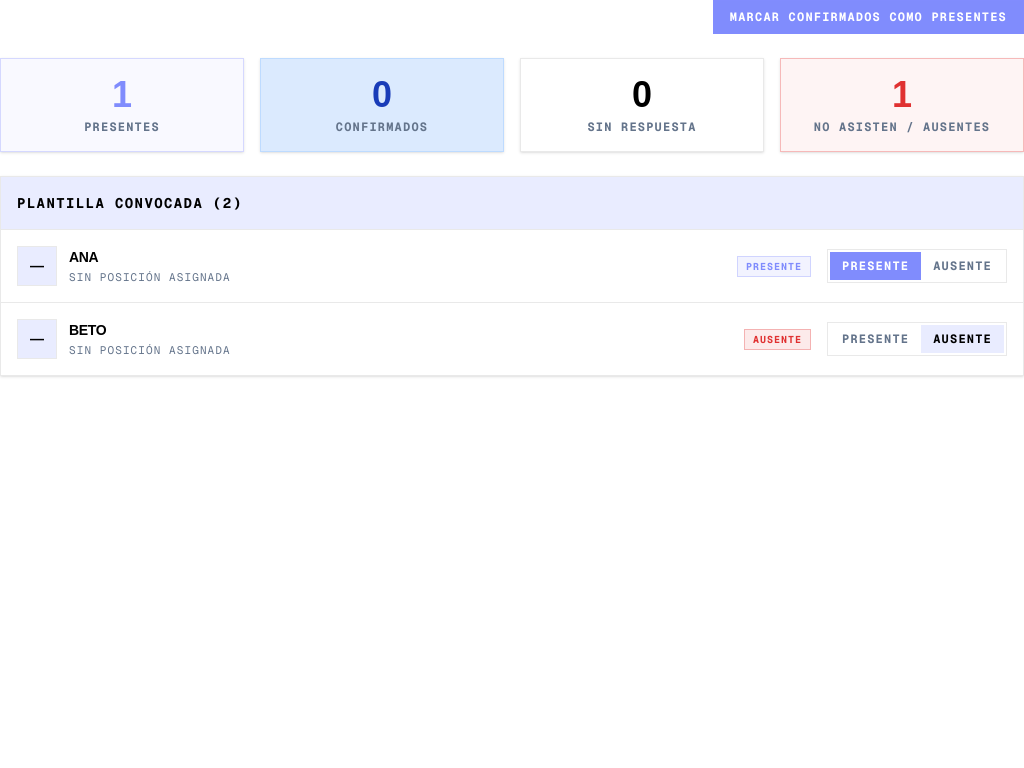
Test: AttendanceBoard — marcar confirmados como presentes › error de la API: muestra el mensaje y no cambia estados
Click the button "Marcar confirmados como presentes" at [868, 17], box [713,0,1023,34]
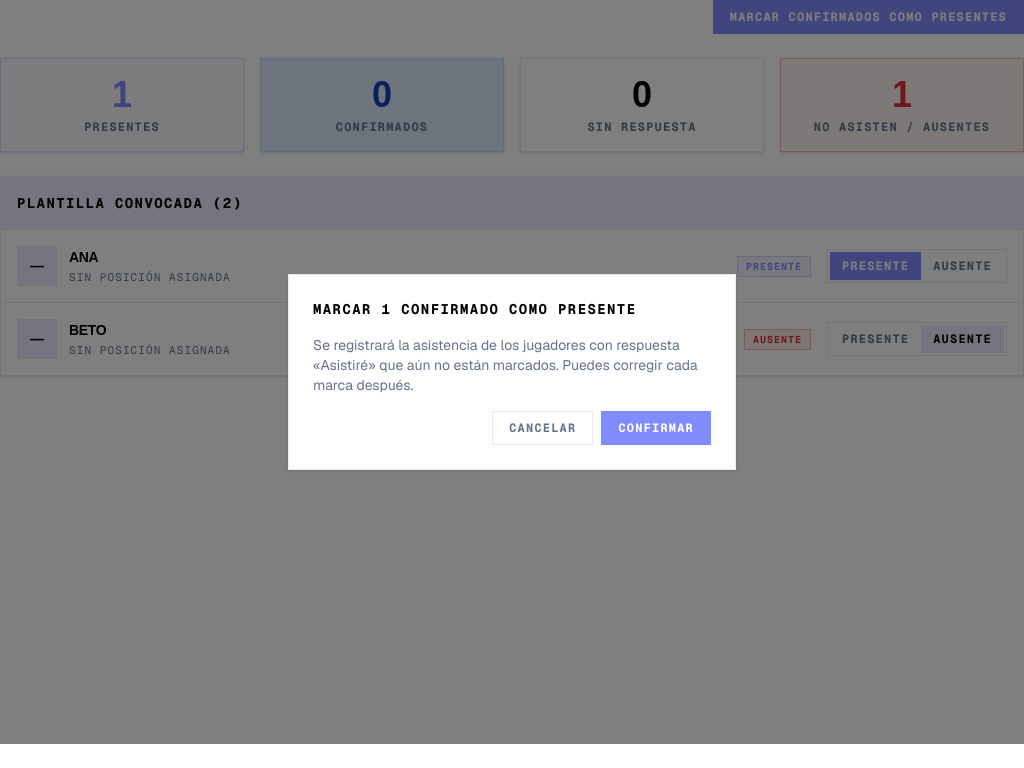
Click the button "Confirmar" at [656, 428], box [601,411,711,445]
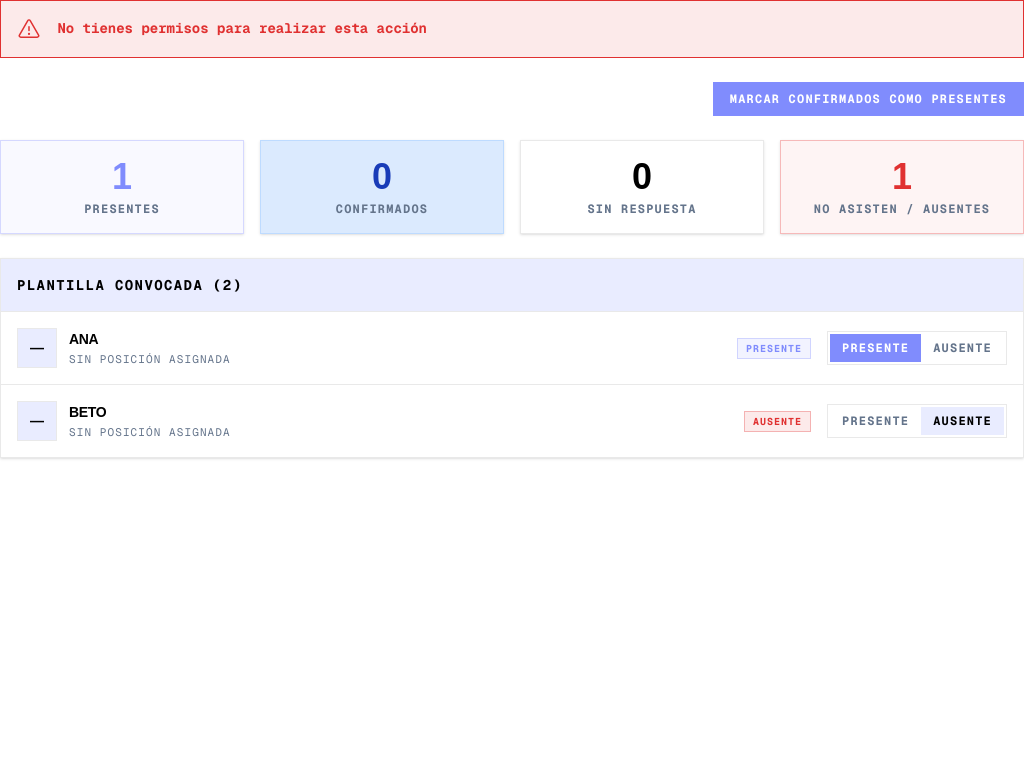
Now the text "No tienes permisos para realizar esta acción" is shown, box [0,0,1023,58]
